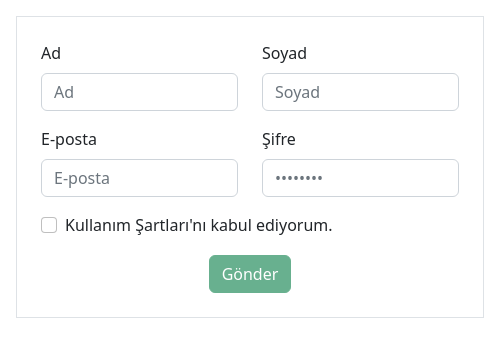
it: Form Testi › Soyisim girdisi hata kontrolü
The image size is (501, 360).
In the field with test id "soyisim": (361, 92) [262, 73, 459, 111], type "Doe"
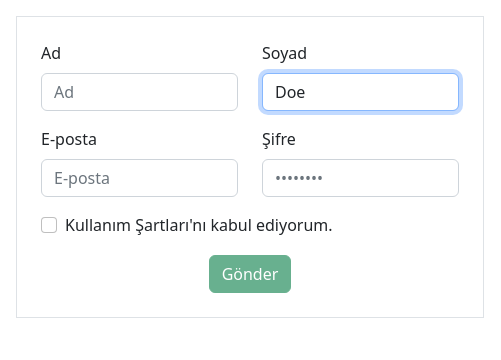
Clear the field with test id "soyisim": (361, 92) [262, 73, 459, 111]
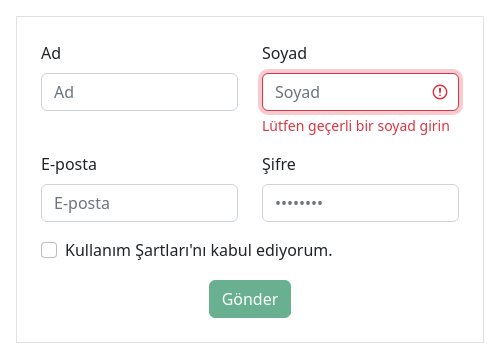
Expected: the text "Lütfen geçerli bir soyad girin" is shown, [262, 115, 459, 136]
